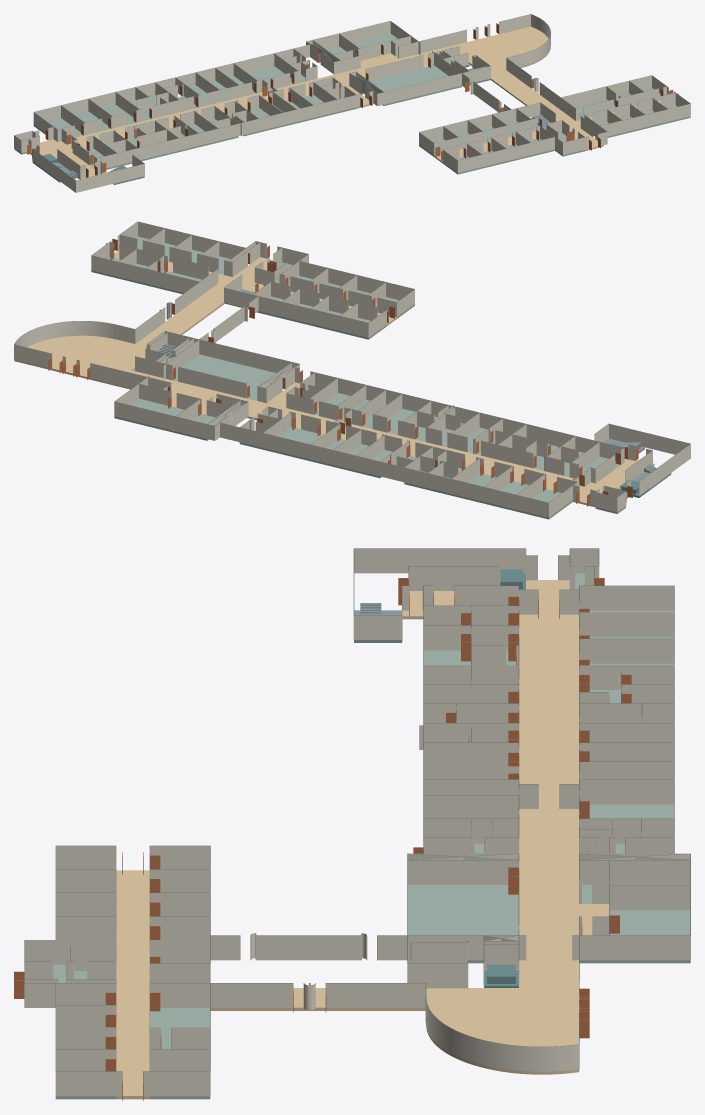
Rendered from floor-1.glb.
3 views of the same model, one above another, from view 1: azimuth 30°, elevation 25°; view 2: azimuth 150°, elevation 25°; view 3: azimuth 270°, elevation 25° (orthographic). The views are drawn at different scales.
Parts seen in each view (by area): view 1: wall-A-036, wall-A-034, corridor-A-main, corridor-A-curved-lobby, wall-A-093, wall-A-001, corridor-AB-link, wall-B-014, wall-B-013, room-A102-floor, wall-B-003-part-01, wall-B-001 (+22 smaller); view 2: wall-A-034, wall-A-036, corridor-A-main, corridor-A-curved-lobby, wall-B-013, corridor-AB-link, wall-A-093, room-A102-floor, wall-B-001, wall-A-025, wall-A-009, wall-A-001 (+21 smaller); view 3: corridor-A-main, corridor-B-main, room-A102-floor, corridor-A-curved-lobby, wall-A-093, wall-A-009, wall-AB-link-003, wall-A-004, corridor-AB-link, wall-AB-link-005, wall-A-026, wall-A-016 (+55 smaller).
Boxes of the visible parts, left/top/right/bottom form: wall-A-036: left=97, top=94, right=360, bottom=168; wall-A-034: left=34, top=44, right=309, bottom=121; corridor-A-main: left=67, top=42, right=482, bottom=149; corridor-A-curved-lobby: left=468, top=26, right=550, bottom=69; wall-A-093: left=32, top=148, right=144, bottom=192; wall-A-001: left=377, top=66, right=490, bottom=105; corridor-AB-link: left=468, top=53, right=575, bottom=123; wall-B-014: left=457, top=137, right=554, bottom=172; wall-B-013: left=419, top=102, right=540, bottom=141; room-A102-floor: left=369, top=65, right=461, bottom=105; wall-B-003-part-01: left=600, top=103, right=690, bottom=136; wall-B-001: left=561, top=75, right=651, bottom=106; wall-A-034: left=220, top=422, right=548, bottom=517; wall-A-036: left=310, top=371, right=623, bottom=460; corridor-A-main: left=89, top=364, right=584, bottom=490; corridor-A-curved-lobby: left=14, top=335, right=134, bottom=378; wall-B-013: left=224, top=287, right=368, bottom=337; corridor-AB-link: left=108, top=283, right=226, bottom=370; wall-A-093: left=594, top=423, right=690, bottom=496; room-A102-floor: left=173, top=354, right=276, bottom=400; wall-B-001: left=91, top=255, right=199, bottom=292; wall-A-025: left=114, top=401, right=214, bottom=440; wall-A-009: left=14, top=321, right=117, bottom=347; wall-A-001: left=165, top=331, right=299, bottom=372; corridor-A-main: left=519, top=614, right=579, bottom=1007; corridor-B-main: left=116, top=870, right=149, bottom=1099; room-A102-floor: left=408, top=885, right=518, bottom=963; corridor-A-curved-lobby: left=426, top=1007, right=579, bottom=1074; wall-A-093: left=353, top=548, right=526, bottom=639; wall-A-009: left=426, top=998, right=578, bottom=1071; wall-AB-link-003: left=150, top=983, right=293, bottom=1007; wall-A-004: left=572, top=935, right=690, bottom=960; corridor-AB-link: left=210, top=988, right=518, bottom=1010; wall-AB-link-005: left=255, top=935, right=361, bottom=960; wall-A-026: left=579, top=860, right=690, bottom=884; wall-A-016: left=408, top=860, right=518, bottom=884.
Bounding box in the file's own units: 1055 × 26 × 572.
